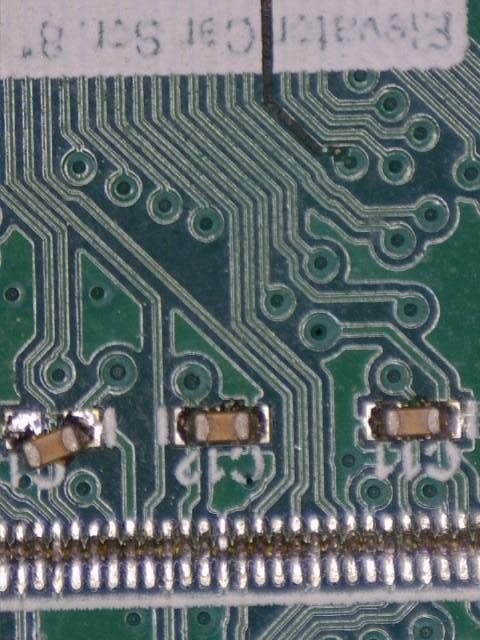pcb_defect: (4, 409, 100, 469)
